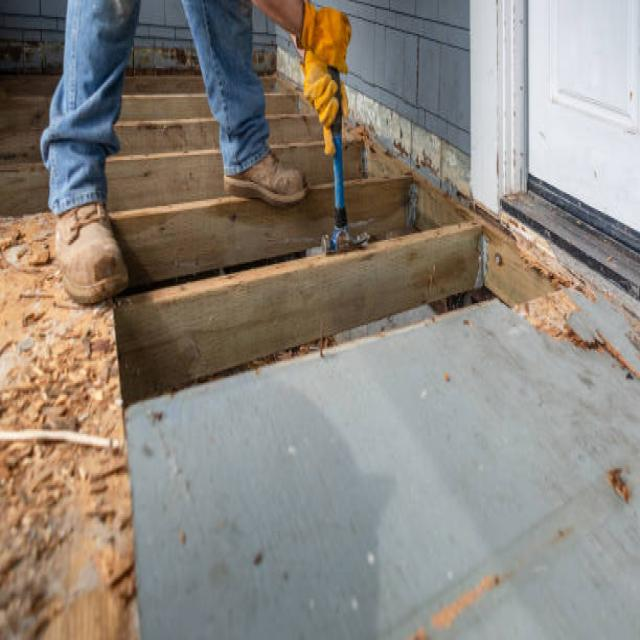gloves: (299, 51, 349, 157), (298, 0, 351, 73)
